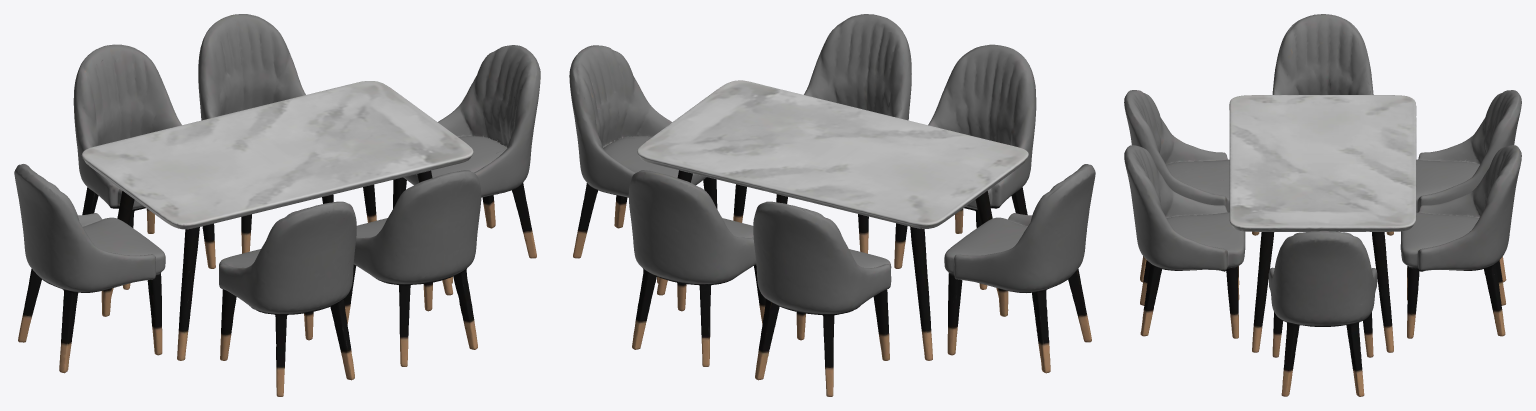
File: table.glb
The picture shows the model from 3 angles, left to right: view 1: azimuth 30°, elevation 25°; view 2: azimuth 150°, elevation 25°; view 3: azimuth 270°, elevation 25°; orthographic projection. The views are drawn at different scales.
Visible parts, largest first — view 1: world; view 2: world; view 3: world.
Boxes of the visible parts, x1,y1,x2,y2 form: world: (14,14,540,396); world: (569,14,1095,396); world: (1124,14,1521,396).
Bounding box in the file's own units: 1 × 0.3586 × 0.7583.
Materials: 1 (1 with a texture image).
